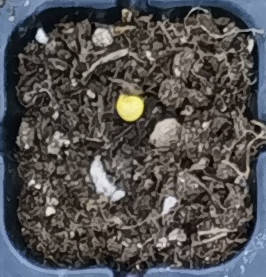pepper seed: (42, 32, 188, 155)
